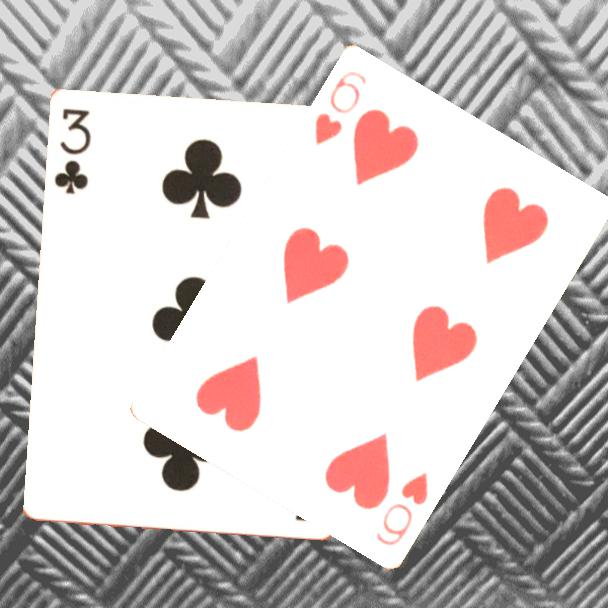c03: (50, 104, 93, 197)
h06: (310, 66, 369, 148), (372, 468, 431, 549)
